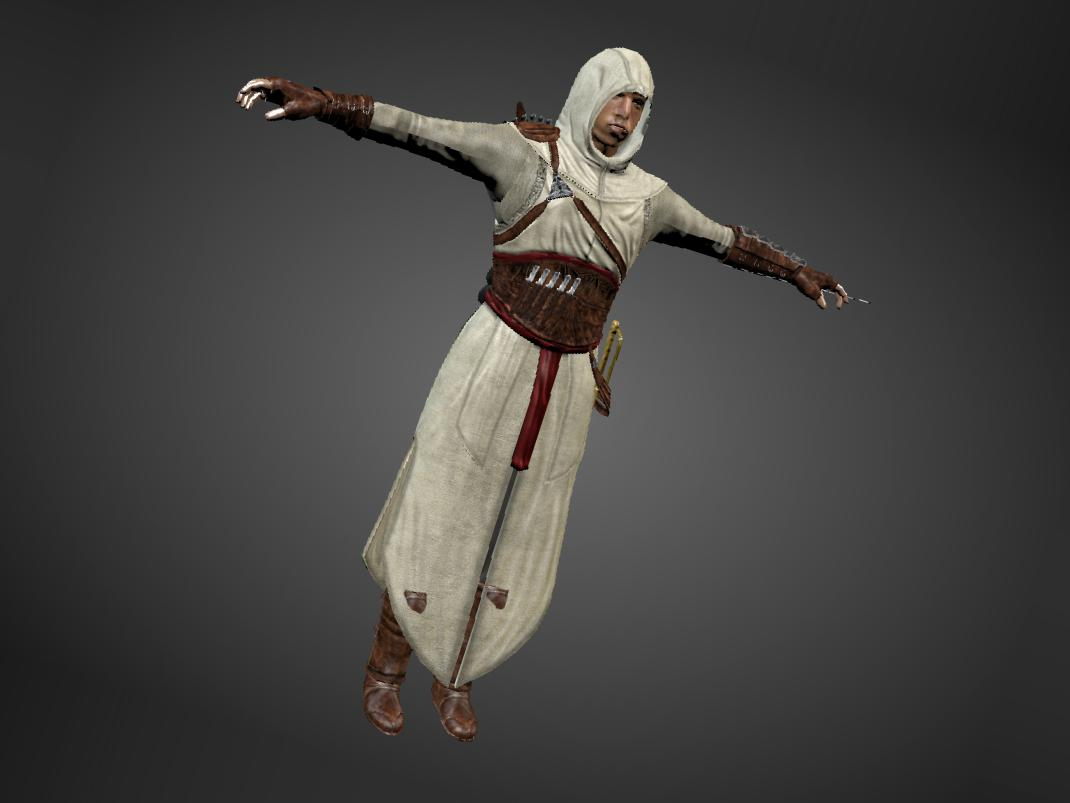clip: (486, 579, 519, 615), (402, 585, 431, 617)
